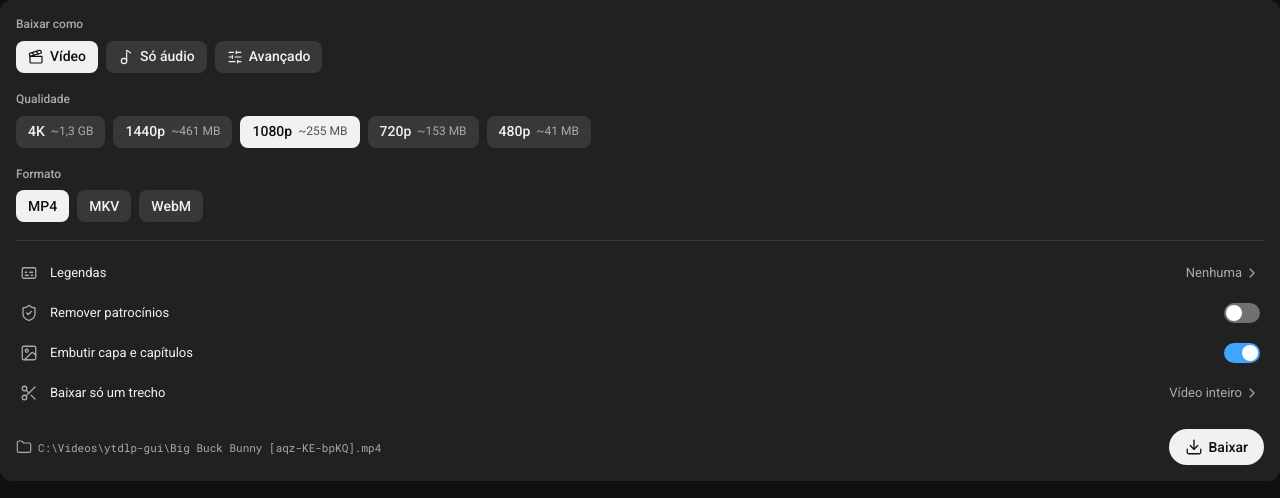
mode › "Só áudio" hides the quality and the video format and shows MP3, M4A, Opus and FLAC
Click the button "Só áudio". click: x=156, y=57
box: [106,41,207,73]
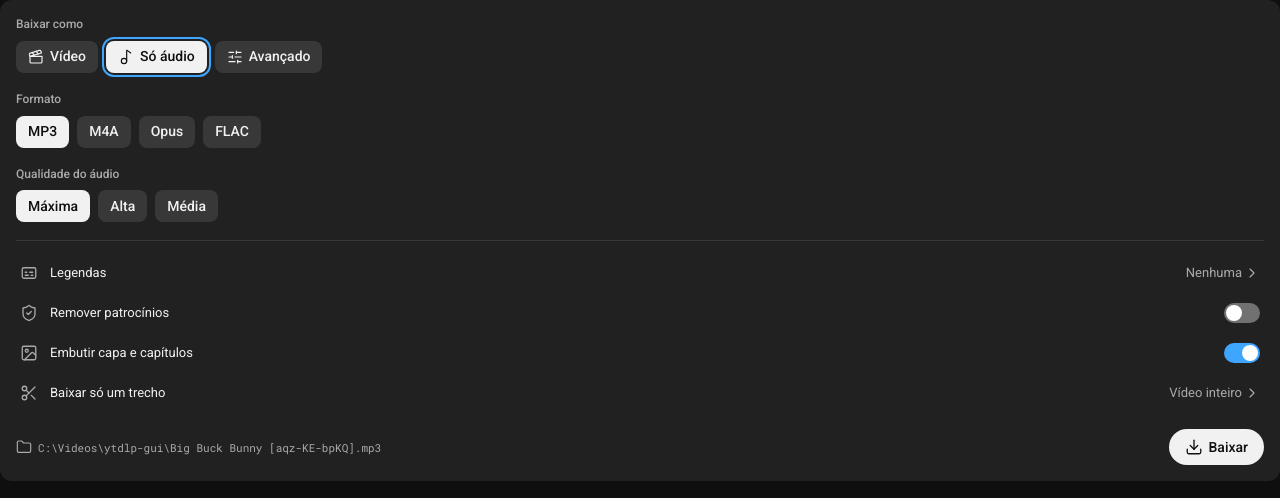
Expected: the button "1080p" is gone
Expected: the button "MP4" is gone
Expected: the button "MKV" is gone
